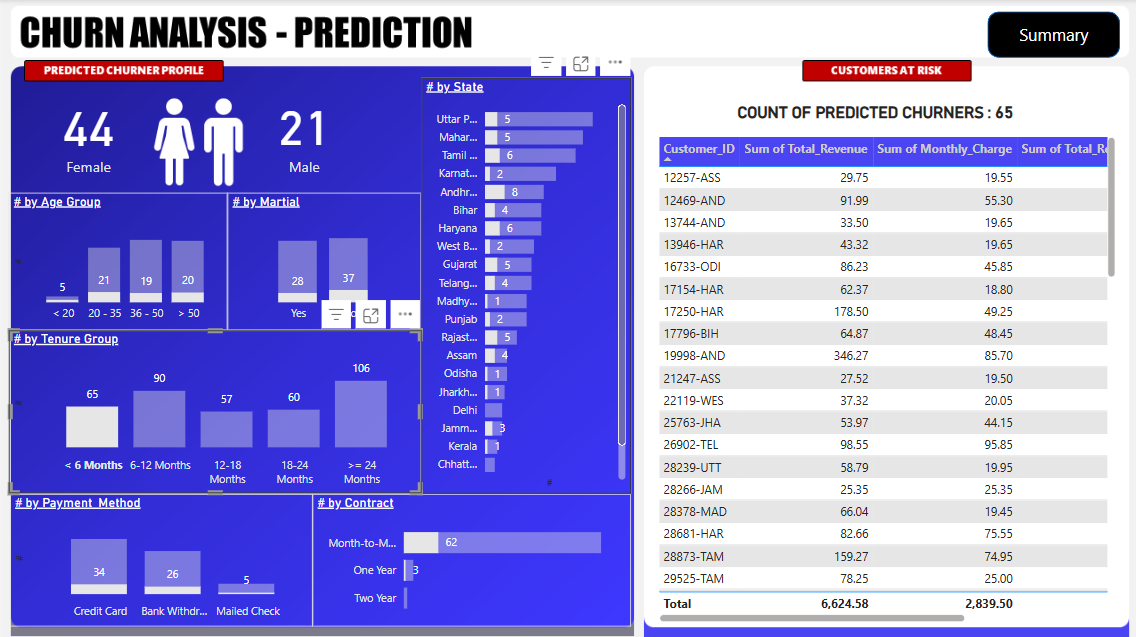

The dashboard page shown, as its layout file describes it:
{"tool":"powerbi","page":{"name":"Churn Prediction","canvas":[1280,720],"ordinal":2},"visuals":[{"type":"tableEx","fields":{"Values":["Predictions.Customer_ID","Sum(Predictions.Total_Revenue)","Sum(Predictions.Monthly_Charge)","Sum(Predictions.Total_Refunds)","Sum(Predictions.Number_of_Referrals)"]},"box":[734.2,150.2,523.6,554.5],"z":0},{"type":"card","fields":{"Values":["tbl_measures.Title Predicted Churners"]},"box":[708.9,105.3,548.9,44.9],"z":1000},{"type":"card","fields":{"Values":["tbl_measures.Count Predicted Churner"]},"box":[18.2,88.4,162.8,123.5],"z":1001},{"type":"card","fields":{"Values":["tbl_measures.Count Predicted Churner"]},"box":[255.5,92.7,172.7,113.7],"z":1002},{"type":"clusteredColumnChart","fields":{"Category":["mapping_AgeGrp.Age Group "],"Y":["CountNonNull(Predictions.Customer_ID)"]},"box":[9.8,217.6,245.7,154.4],"z":1003},{"type":"clusteredColumnChart","fields":{"Category":["mapping_TenureGrp.Tenure Group "],"Y":["CountNonNull(Predictions.Customer_ID)"]},"box":[9.8,372,463.3,183.9],"z":1004},{"type":"clusteredColumnChart","fields":{"Category":["Predictions.Married"],"Y":["CountNonNull(Predictions.Customer_ID)"]},"box":[255.5,217.6,217.6,154.4],"z":1005},{"type":"clusteredColumnChart","fields":{"Category":["Predictions.Payment_Method"],"Y":["CountNonNull(Predictions.Customer_ID)"]},"box":[11.2,555.9,339.7,148.8],"z":1006},{"type":"clusteredBarChart","fields":{"Category":["Predictions.Contract"],"Y":["CountNonNull(Predictions.Customer_ID)"]},"box":[351,555.9,358,148.8],"z":1007},{"type":"clusteredBarChart","fields":{"Category":["Predictions.State"],"Y":["CountNonNull(Predictions.Customer_ID)"]},"box":[473.1,88.4,235.8,467.5],"z":1008},{"type":"image","box":[151.6,92.7,141.8,134.8],"z":1009},{"type":"shape","box":[1109,14,148.8,51.9],"z":1010}]}

Visuals, with their boxes in screenshot pixels (x1, y1, x2, y2), scaled from the page's 1280x720 canvas onto the 1136x637 screenshot:
tableEx - Predictions.Customer_ID x Sum(Predictions.Total_Revenue): [left=652, top=133, right=1116, bottom=623]
card - tbl_measures.Title Predicted Churners: [left=629, top=93, right=1116, bottom=133]
card - tbl_measures.Count Predicted Churner: [left=16, top=78, right=161, bottom=187]
card - tbl_measures.Count Predicted Churner: [left=227, top=82, right=380, bottom=183]
clusteredColumnChart - mapping_AgeGrp.Age Group  x CountNonNull(Predictions.Customer_ID): [left=9, top=193, right=227, bottom=329]
clusteredColumnChart - mapping_TenureGrp.Tenure Group  x CountNonNull(Predictions.Customer_ID): [left=9, top=329, right=420, bottom=492]
clusteredColumnChart - Predictions.Married x CountNonNull(Predictions.Customer_ID): [left=227, top=193, right=420, bottom=329]
clusteredColumnChart - Predictions.Payment_Method x CountNonNull(Predictions.Customer_ID): [left=10, top=492, right=311, bottom=623]
clusteredBarChart - Predictions.Contract x CountNonNull(Predictions.Customer_ID): [left=312, top=492, right=629, bottom=623]
clusteredBarChart - Predictions.State x CountNonNull(Predictions.Customer_ID): [left=420, top=78, right=629, bottom=492]
image: [left=135, top=82, right=260, bottom=201]
shape: [left=984, top=12, right=1116, bottom=58]
